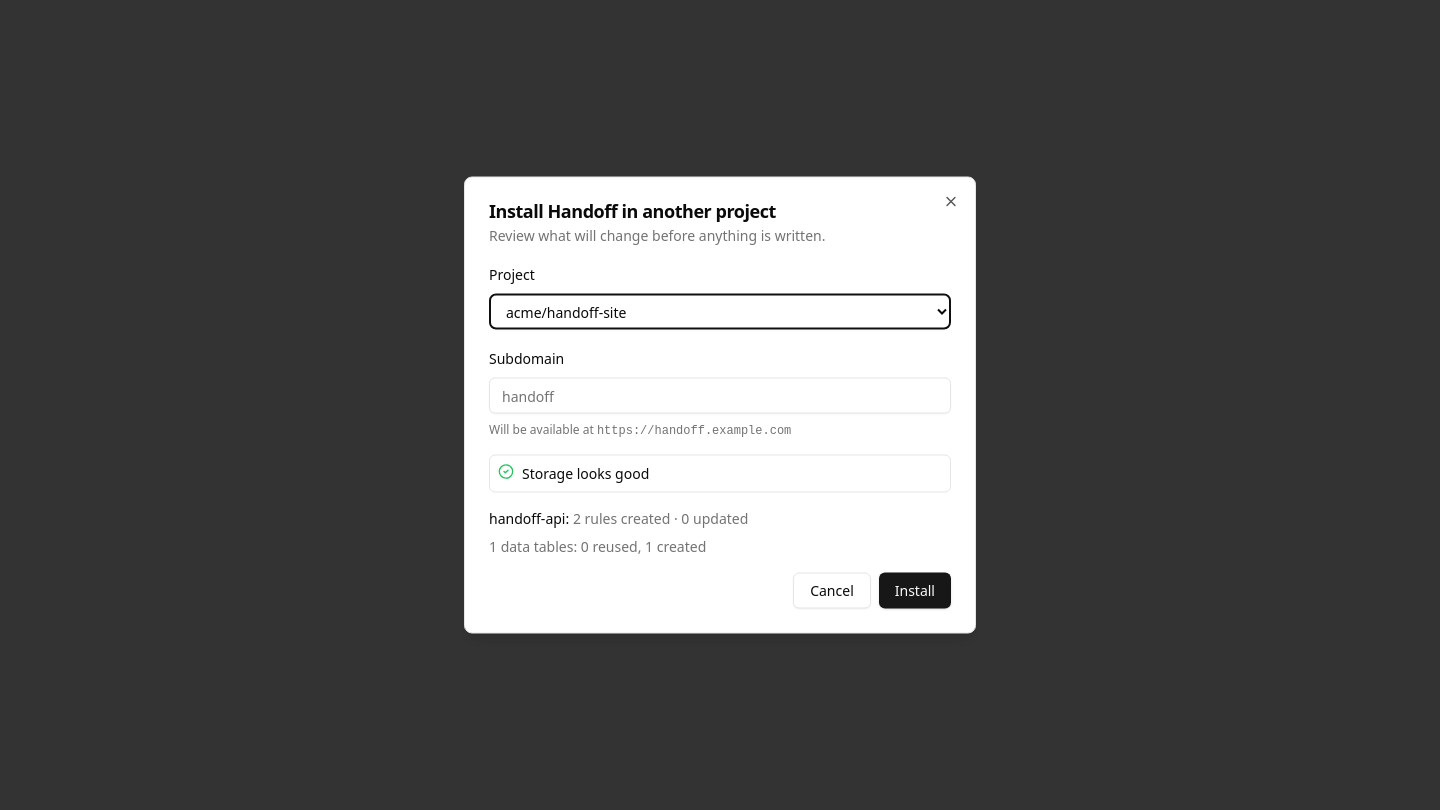
Test: InstallDialog — Done screen › never shows ANOTHER install’s notes/URL: a second install’s Done screen matches on installedAppId
Click the button "Install" at point(915, 590), box left=879, top=572, right=951, bottom=608
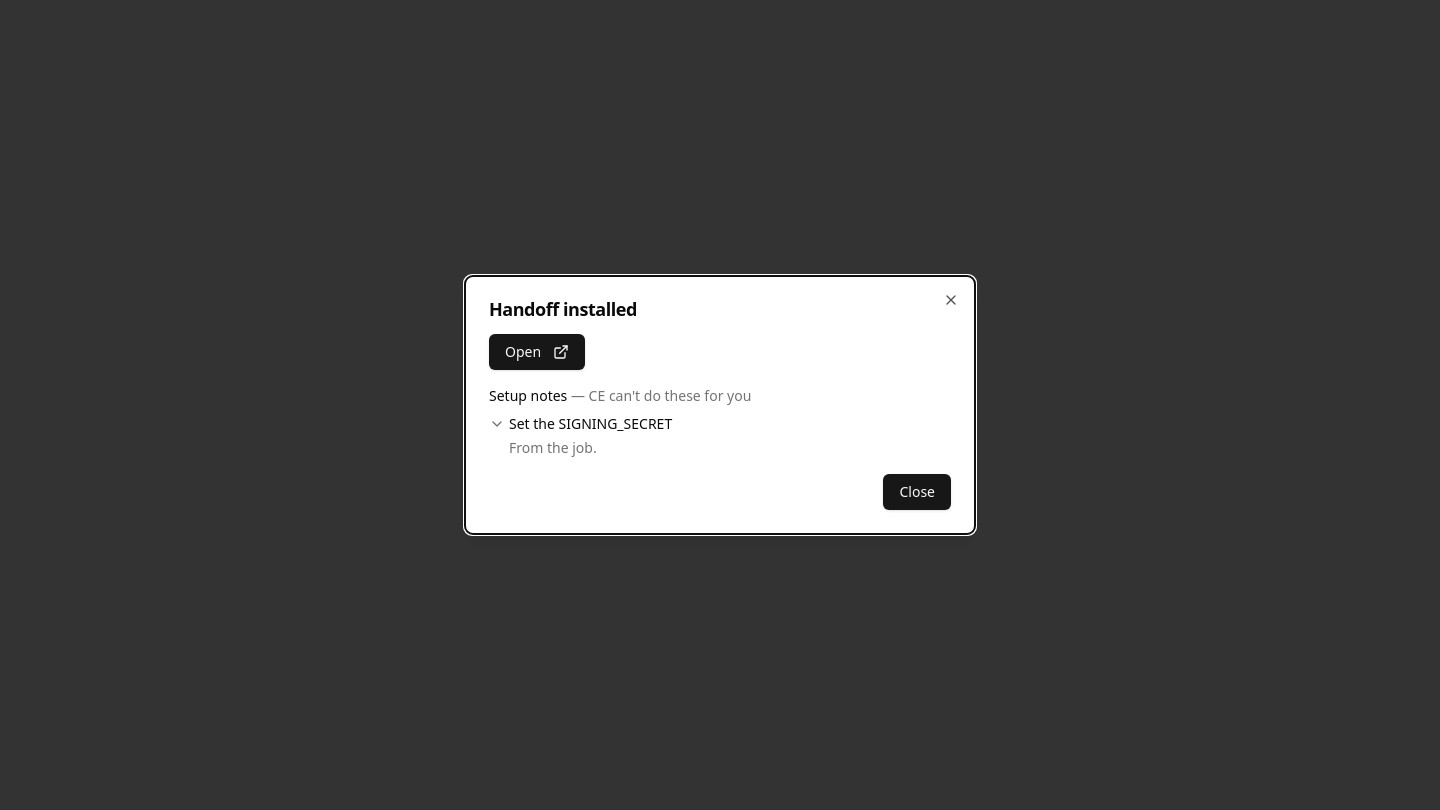
Check: the text "Set the SIGNING_SECRET" is shown, box left=509, top=414, right=672, bottom=434
